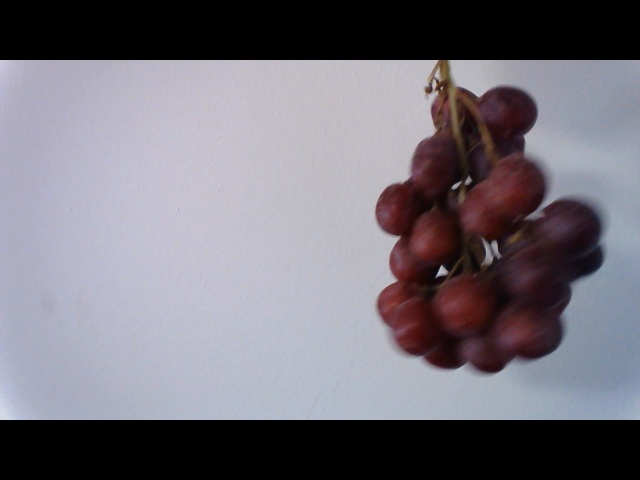grape: (367, 90, 611, 372)
